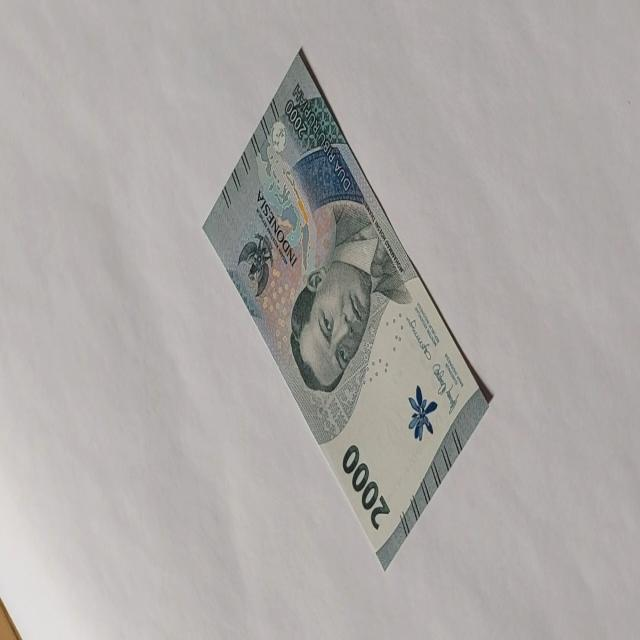dua ribu rupiah: (202, 46, 494, 572), (288, 202, 412, 394)
